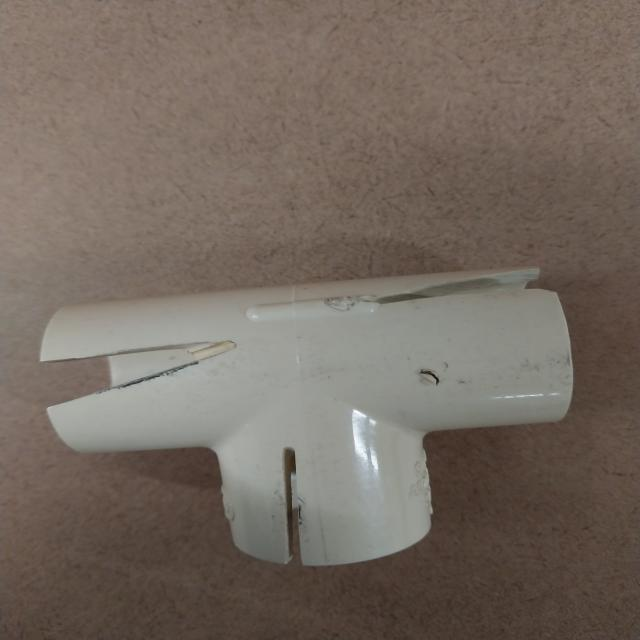Defective: (43, 342, 241, 403), (404, 268, 557, 308), (276, 442, 317, 568)
T Joint: (47, 277, 564, 564)
